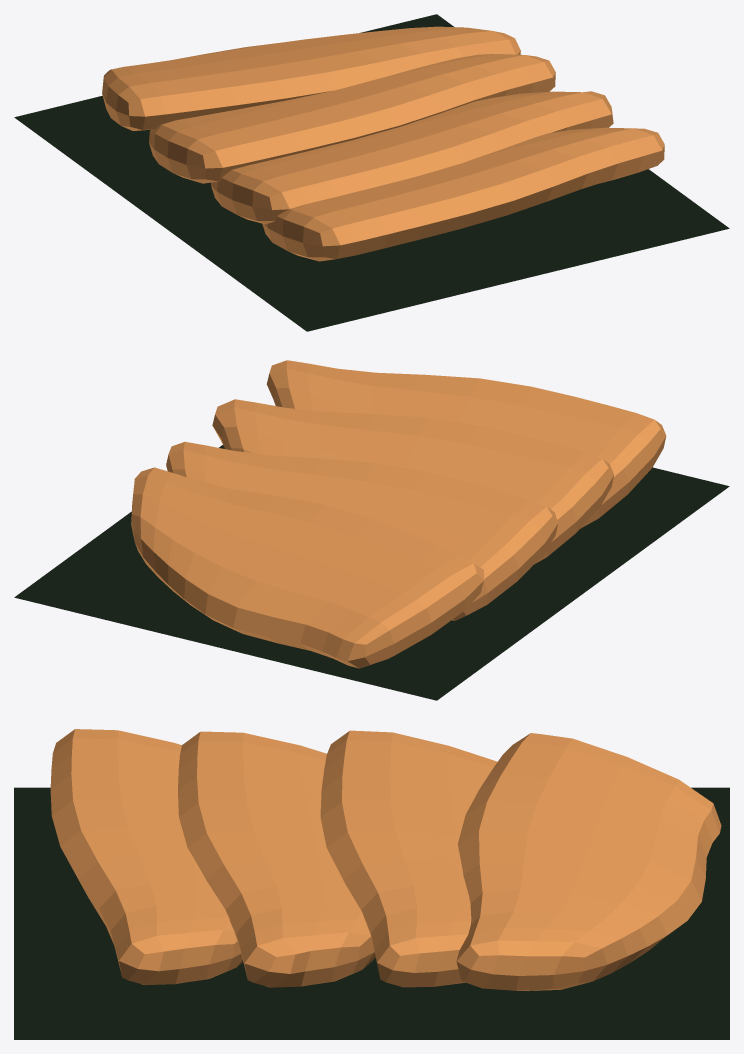
File: salmonnori.glb
3 renders of one model, top to bottom at view 1: azimuth 30°, elevation 25°; view 2: azimuth 150°, elevation 25°; view 3: azimuth 270°, elevation 25°, orthographic. The views are drawn at different scales.
Parts seen in each view (by area): view 1: choppedsalmon, nori; view 2: choppedsalmon, nori; view 3: choppedsalmon, nori.
Boxes of the visible parts, left/top/right/bottom form: choppedsalmon: left=102, top=26, right=664, bottom=261; nori: left=14, top=14, right=729, bottom=331; choppedsalmon: left=131, top=360, right=666, bottom=668; nori: left=14, top=445, right=729, bottom=700; choppedsalmon: left=50, top=729, right=721, bottom=990; nori: left=14, top=787, right=729, bottom=1039.
Size of the model in its own units: 2 by 0.338 by 2.4.
